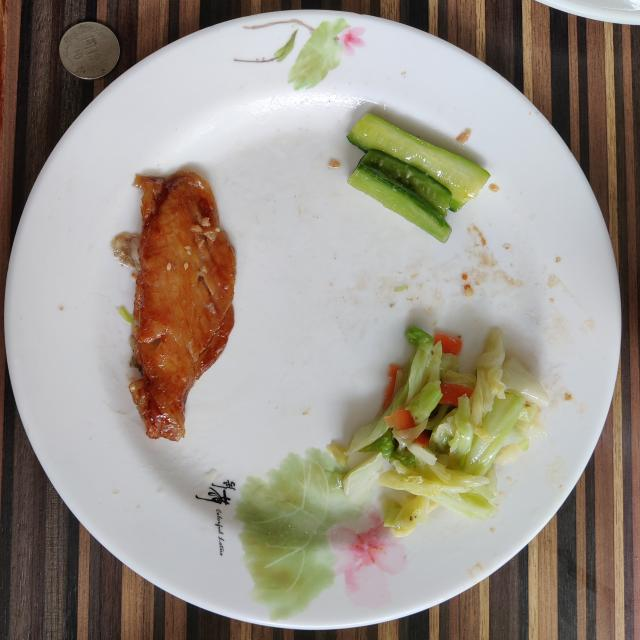Kabayaki sea bream fillet: (111, 171, 235, 441)
cabbage: (331, 325, 549, 536)
coin: (59, 21, 120, 80)
cucumber: (348, 114, 490, 242)
